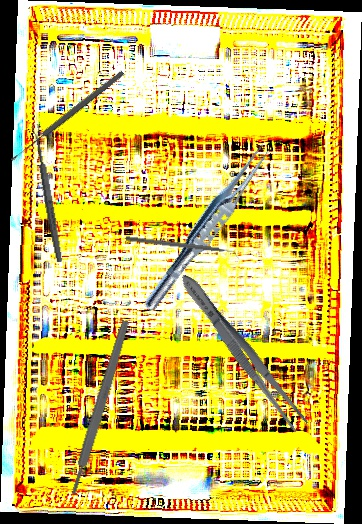Chopper: (124, 236, 241, 261)
Dressing Forceps: (173, 268, 313, 436)
Scalpel Handle: (67, 319, 132, 496)
Surgical Spoon: (8, 69, 126, 163), (30, 123, 65, 263)
Tissue Forceps: (138, 135, 278, 319)
